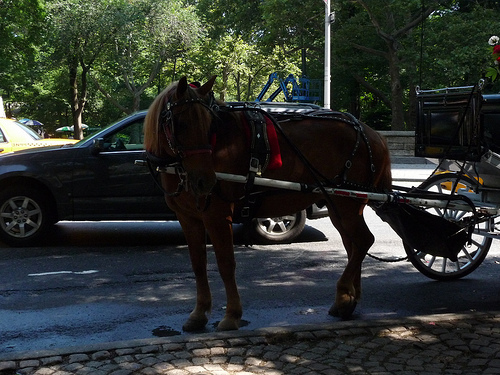horse: (144, 75, 393, 326)
